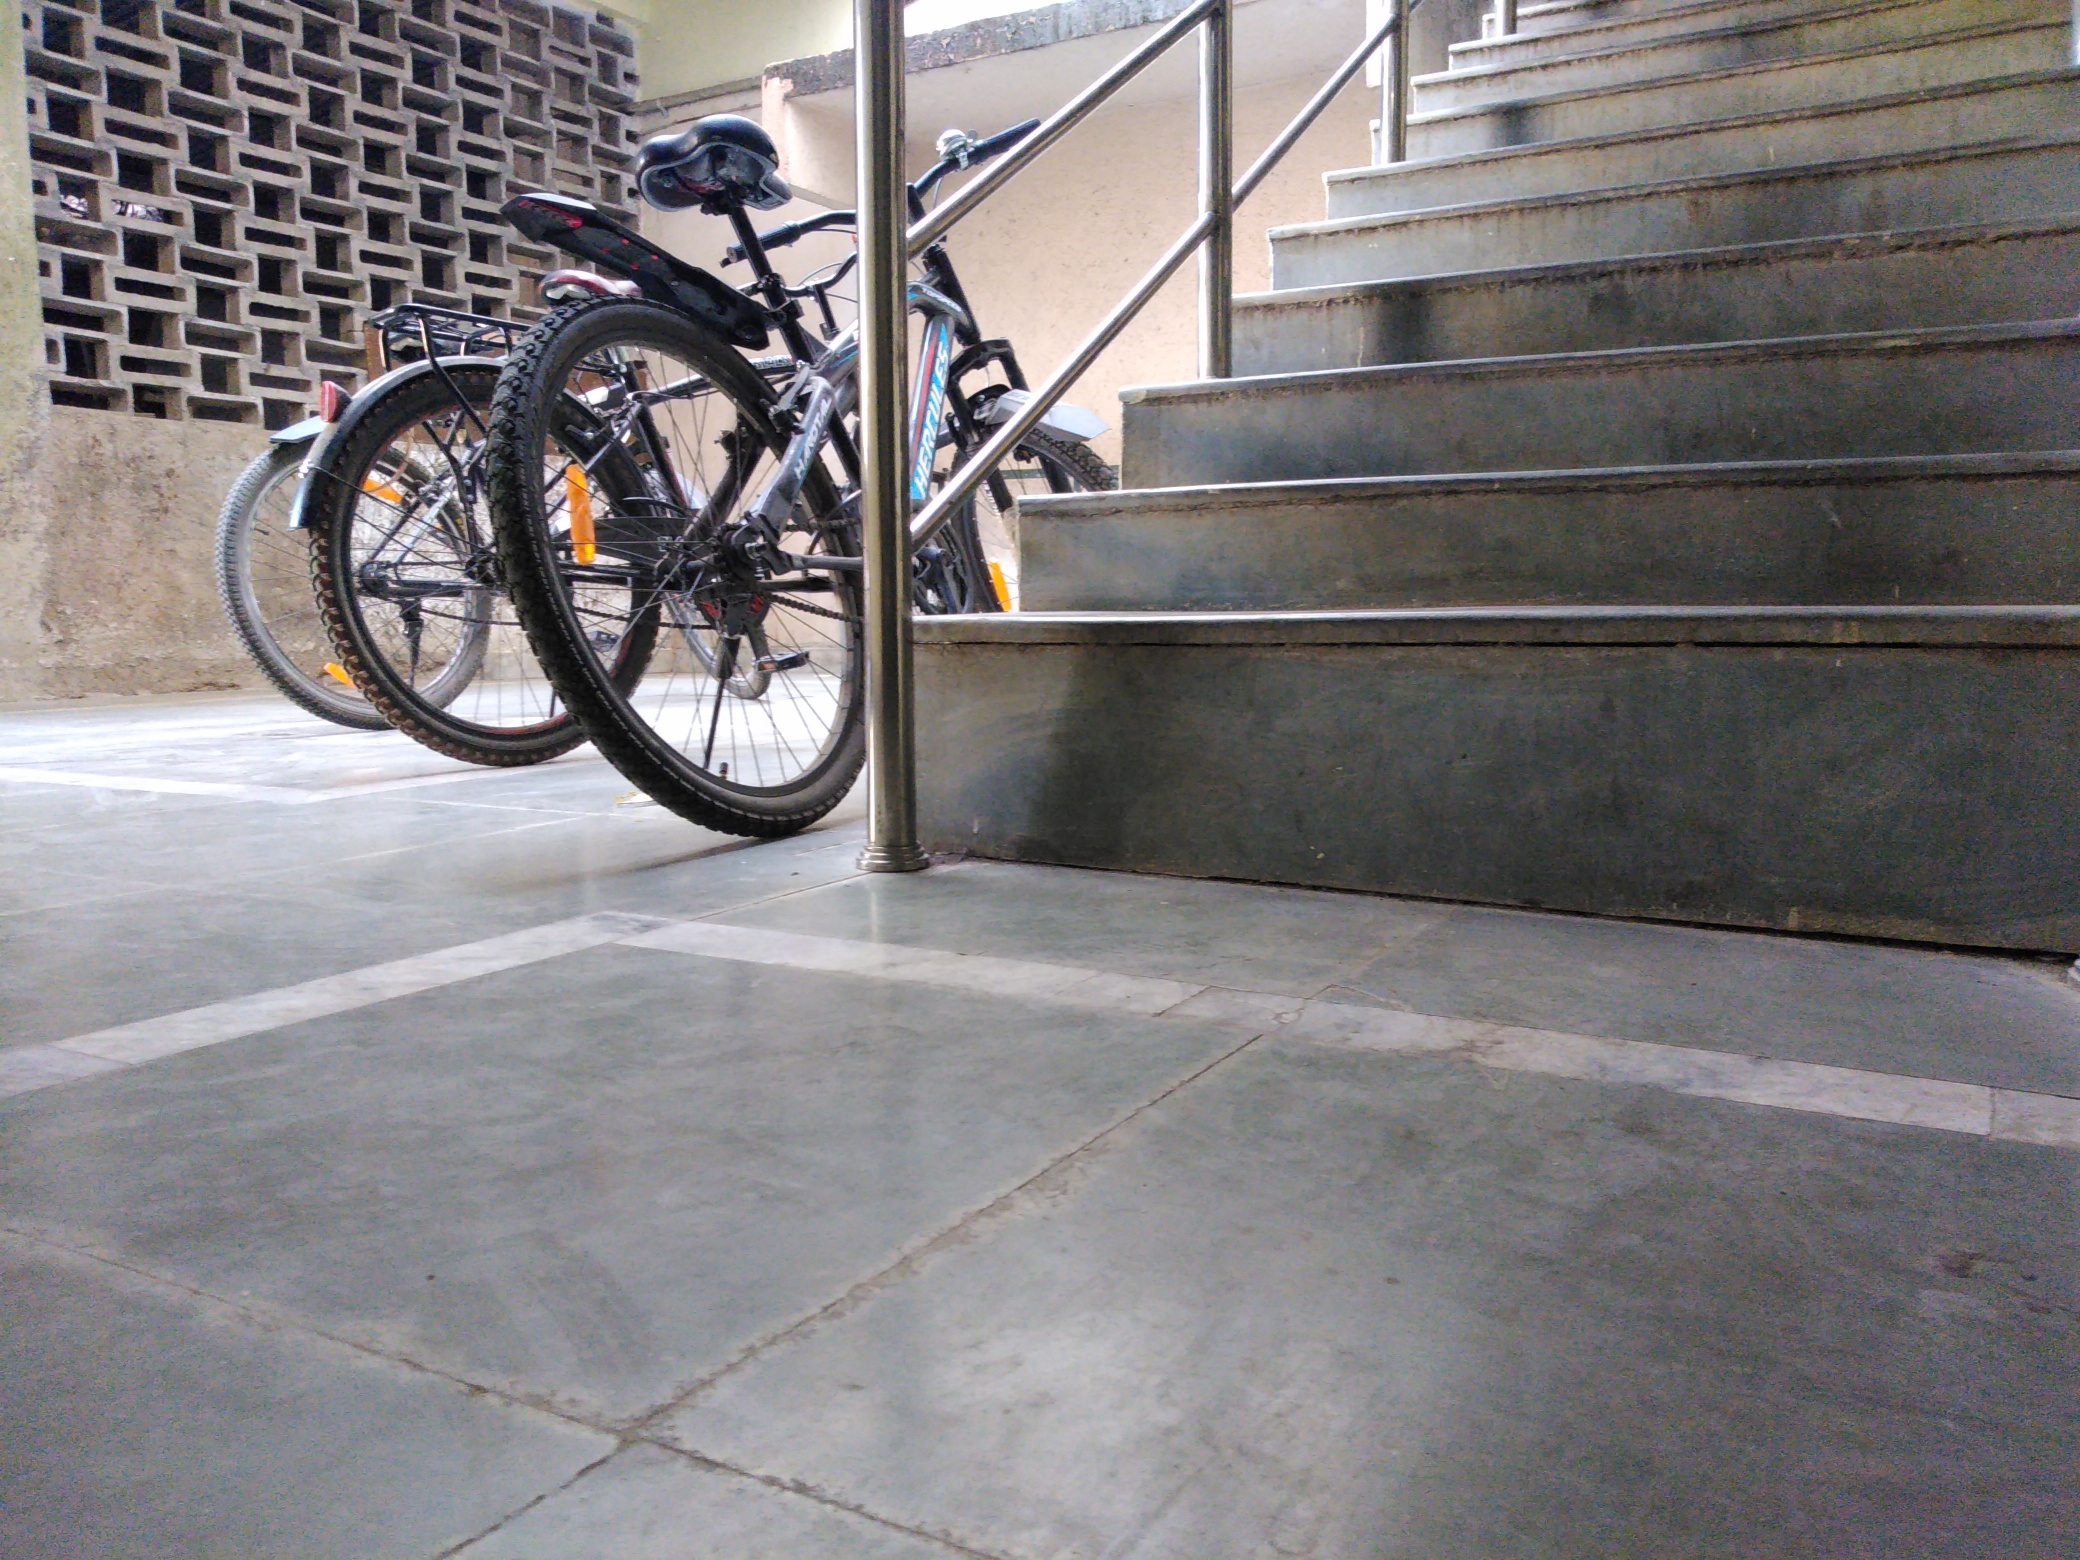stairs_up: (829, 16, 2072, 919)
